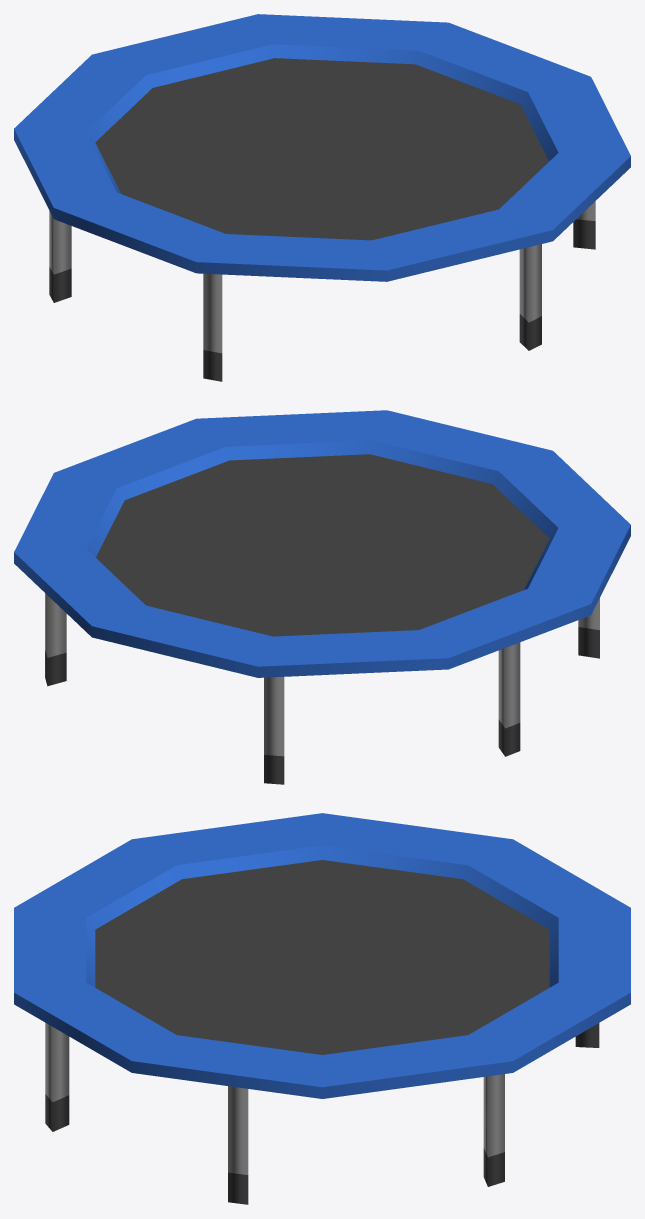
The model's file is interior_k_010.fbx.
The picture shows the model from 3 angles, top to bottom: view 1: azimuth 30°, elevation 25°; view 2: azimuth 150°, elevation 25°; view 3: azimuth 270°, elevation 25°; orthographic projection. The views are drawn at different scales.
Visible parts, largest first — view 1: interior_k_010; view 2: interior_k_010; view 3: interior_k_010.
Part boxes in pixels (x1,y1,x2,y2): interior_k_010: (14, 14, 630, 381); interior_k_010: (14, 410, 630, 784); interior_k_010: (14, 813, 630, 1204).
Size of the model in its own units: 148 by 34.11 by 141.
